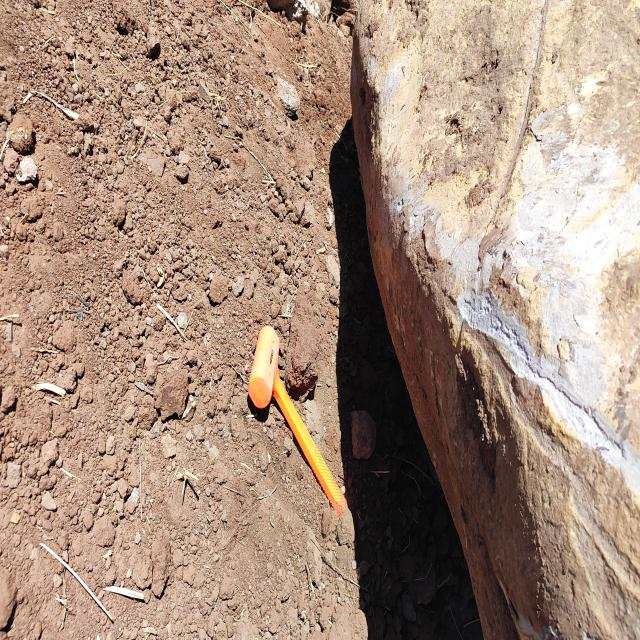Orange_hammer: (247, 324, 347, 518)
